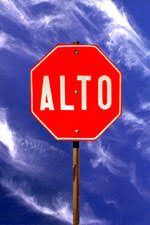SS: (28, 47, 123, 141)
